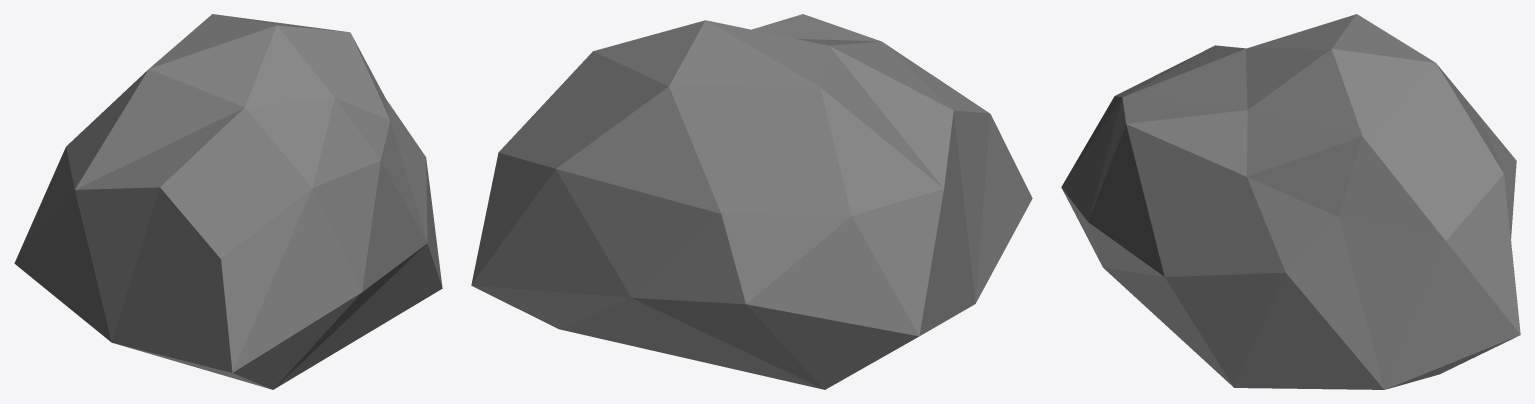
The model's file is stone04.gltf.
The picture shows the model from 3 angles, left to right: view 1: azimuth 30°, elevation 25°; view 2: azimuth 150°, elevation 25°; view 3: azimuth 270°, elevation 25°; orthographic projection. The views are drawn at different scales.
Parts seen in each view (by area): view 1: Icosphere; view 2: Icosphere; view 3: Icosphere.
Part boxes in pixels (bbox=[...]): Icosphere: bbox=[14, 14, 442, 389]; Icosphere: bbox=[471, 14, 1032, 389]; Icosphere: bbox=[1061, 14, 1520, 389].
Size of the model in its own units: 1.19 by 0.7816 by 1.09.
Materials: 1 (1 with a texture image).
